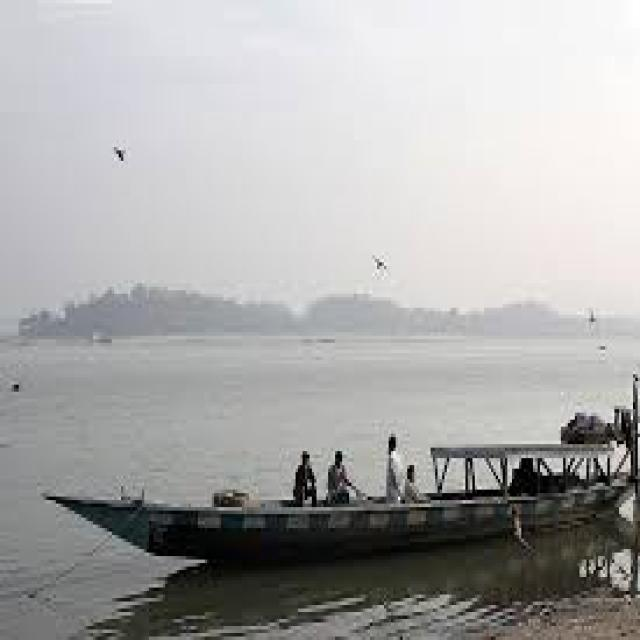fishing boat: (40, 366, 632, 557)
